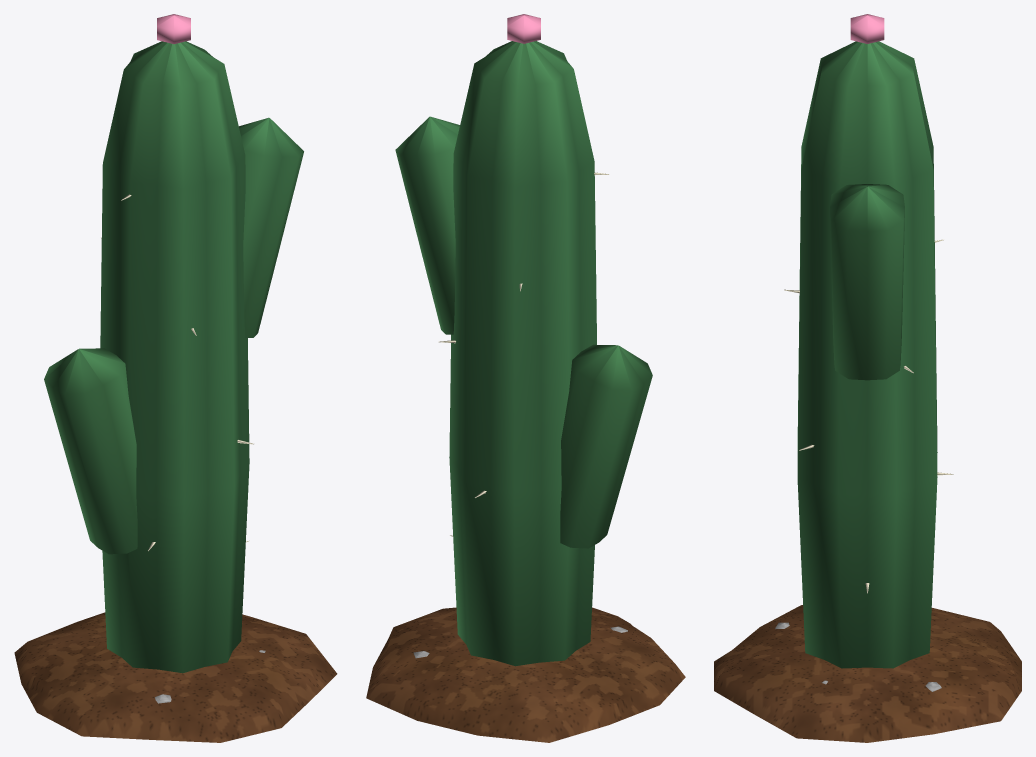
File: plant-cactus-4.glb
3 renders of one model, left to right at view 1: azimuth 30°, elevation 25°; view 2: azimuth 150°, elevation 25°; view 3: azimuth 270°, elevation 25°, orthographic.
Parts seen in each view (by area): view 1: plant-cactus-4; view 2: plant-cactus-4; view 3: plant-cactus-4.
Part boxes in pixels (<box>): plant-cactus-4: <box>14,14,337,742</box>; plant-cactus-4: <box>366,14,685,742</box>; plant-cactus-4: <box>714,14,1021,742</box>.
Bounding box in the file's own units: 0.84 × 1.94 × 0.8189.
4 materials, 2 textured.
